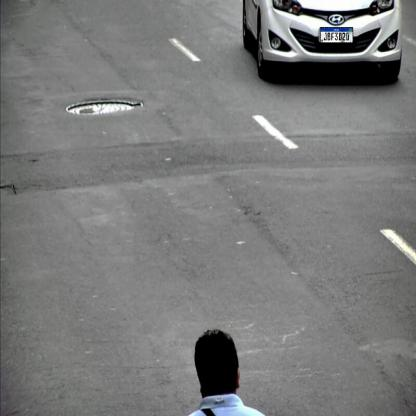PlacaM: (320, 27, 353, 43)
